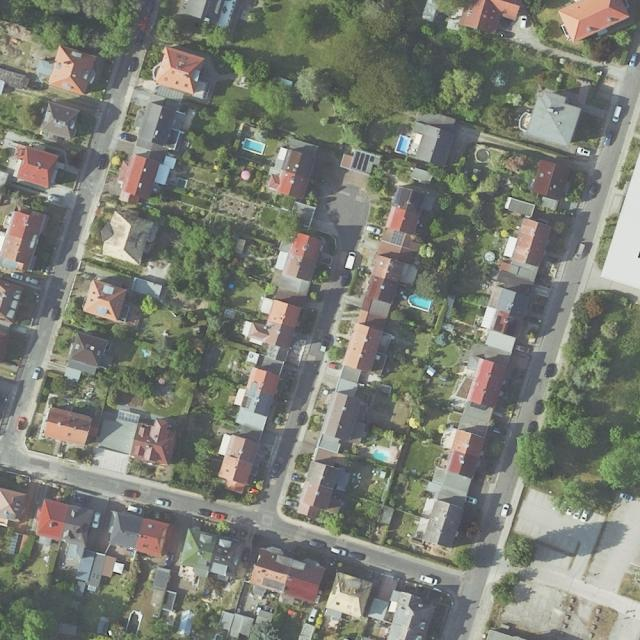PV: (391, 185, 412, 210), (351, 150, 376, 171), (115, 410, 140, 425), (389, 229, 408, 247)
